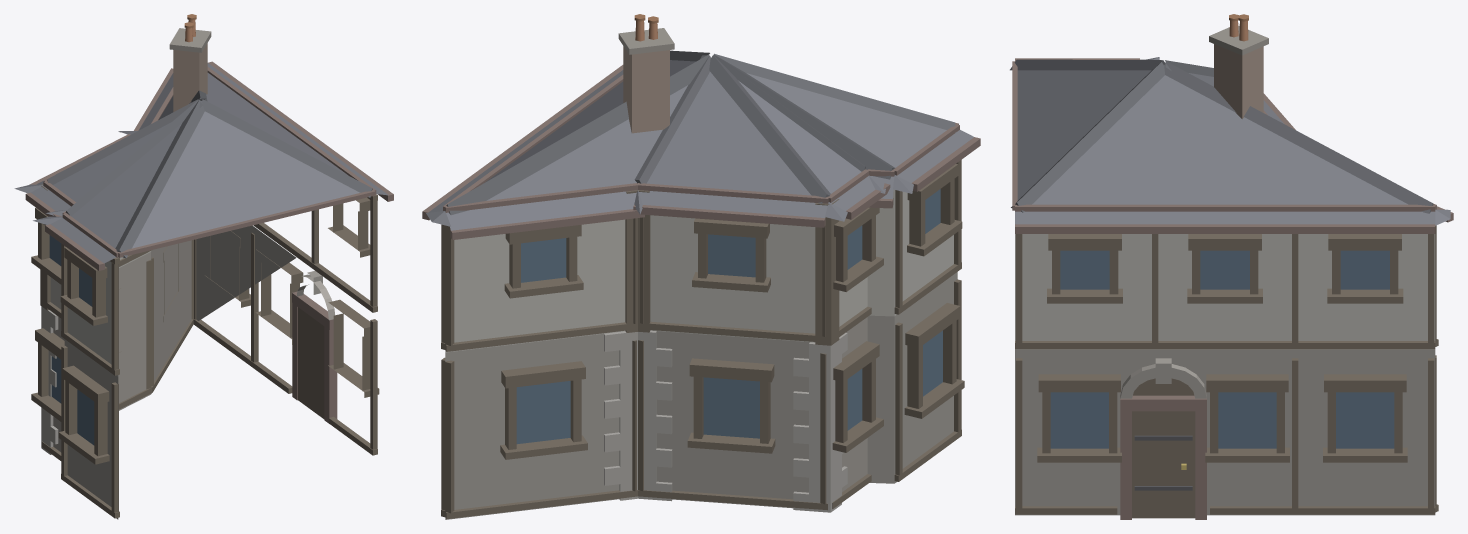
3 renders of one model, left to right at view 1: azimuth 30°, elevation 25°; view 2: azimuth 150°, elevation 25°; view 3: azimuth 270°, elevation 25°, orthographic. The views are drawn at different scales.
Visible parts, largest first — view 1: B105_visible; view 2: B105_visible; view 3: B105_visible.
Part boxes in pixels (<box>): B105_visible: <box>14,14,393,519</box>; B105_visible: <box>422,14,980,519</box>; B105_visible: <box>1010,14,1453,519</box>.
Bounding box in the file's own units: 7.6 × 9.45 × 8.43.
